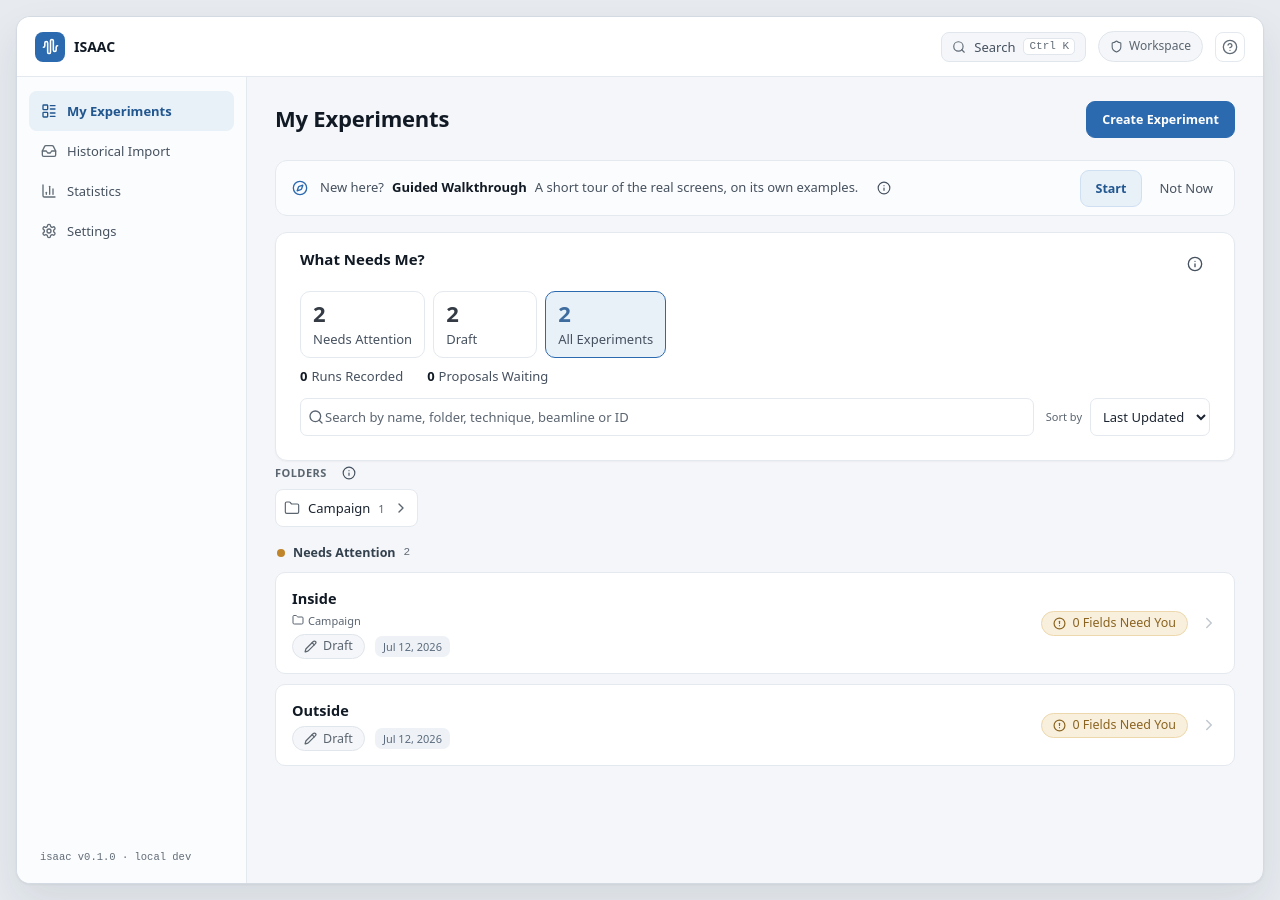
Test: folders › lists the folders that exist, browses into one, and offers a way back
Check: the text "Inside" is shown, box [292, 588, 336, 608]
Check: the text "Outside" is shown, box [292, 700, 349, 720]
Click the button "Campaign 1".
click(346, 508)  # box [275, 489, 418, 527]
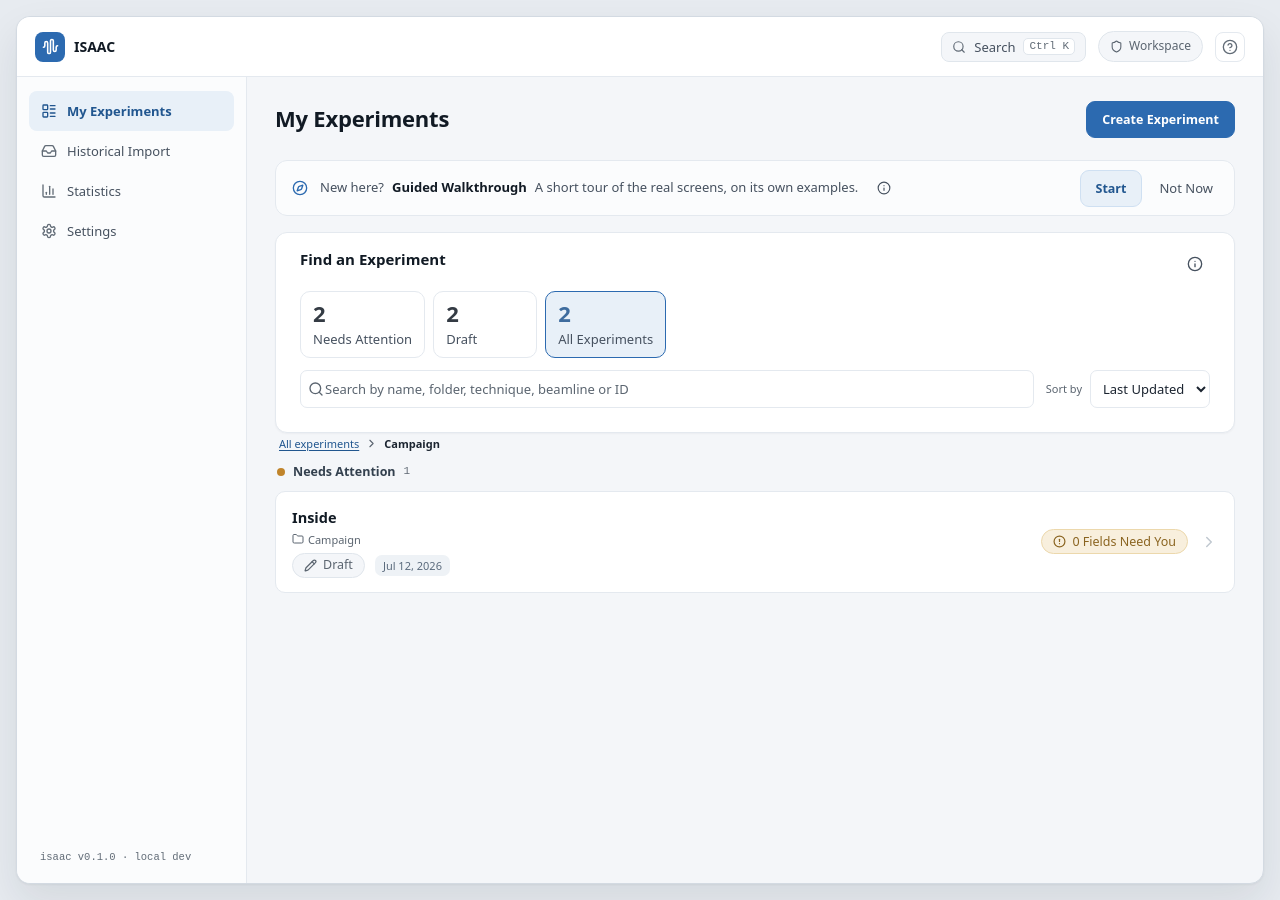
Check: the text "Inside" is shown, box [292, 507, 336, 527]
Check: the link "Outside" is gone
Click the button "All experiments".
click(319, 443)  # box [275, 433, 363, 454]
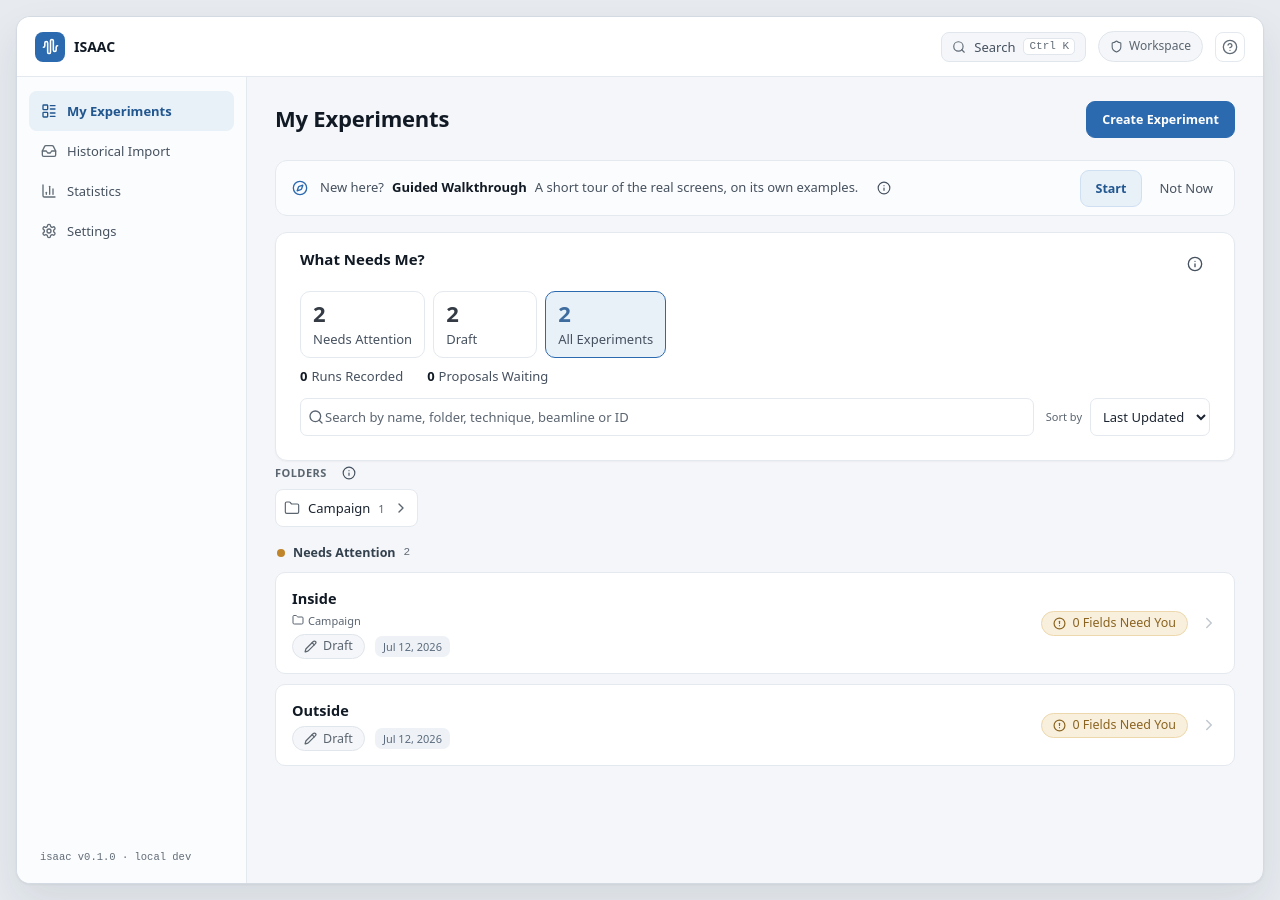
Check: the text "Outside" is shown, box [292, 700, 349, 720]
